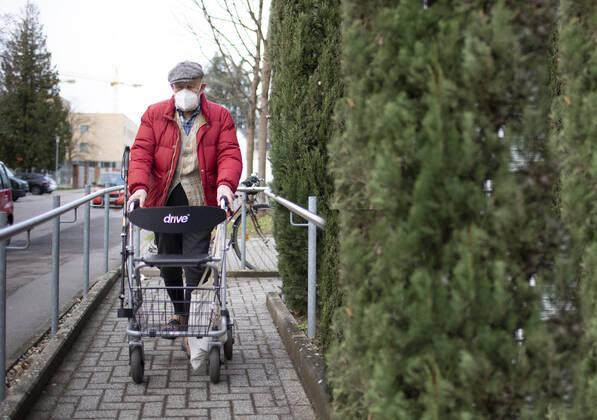walking_frame: (117, 61, 242, 382)
